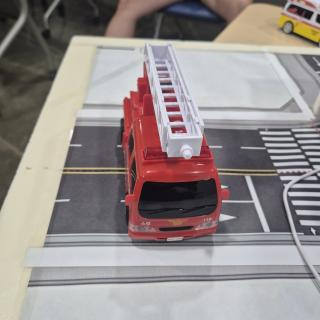Fire_truck: (121, 41, 229, 241)
